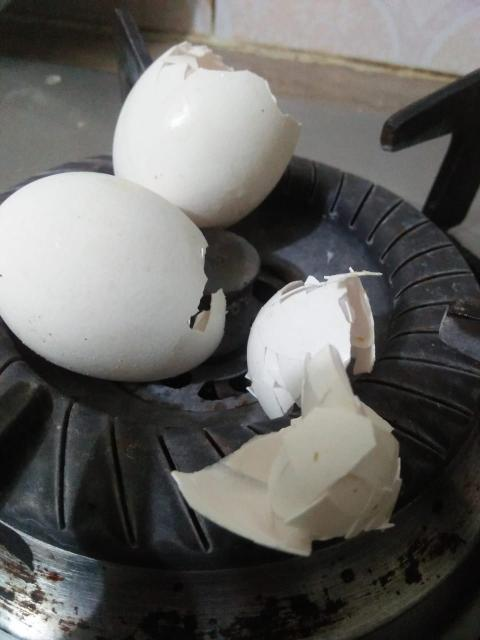Roto: (170, 345, 402, 557), (0, 170, 227, 382), (111, 40, 302, 228), (244, 266, 380, 420)
